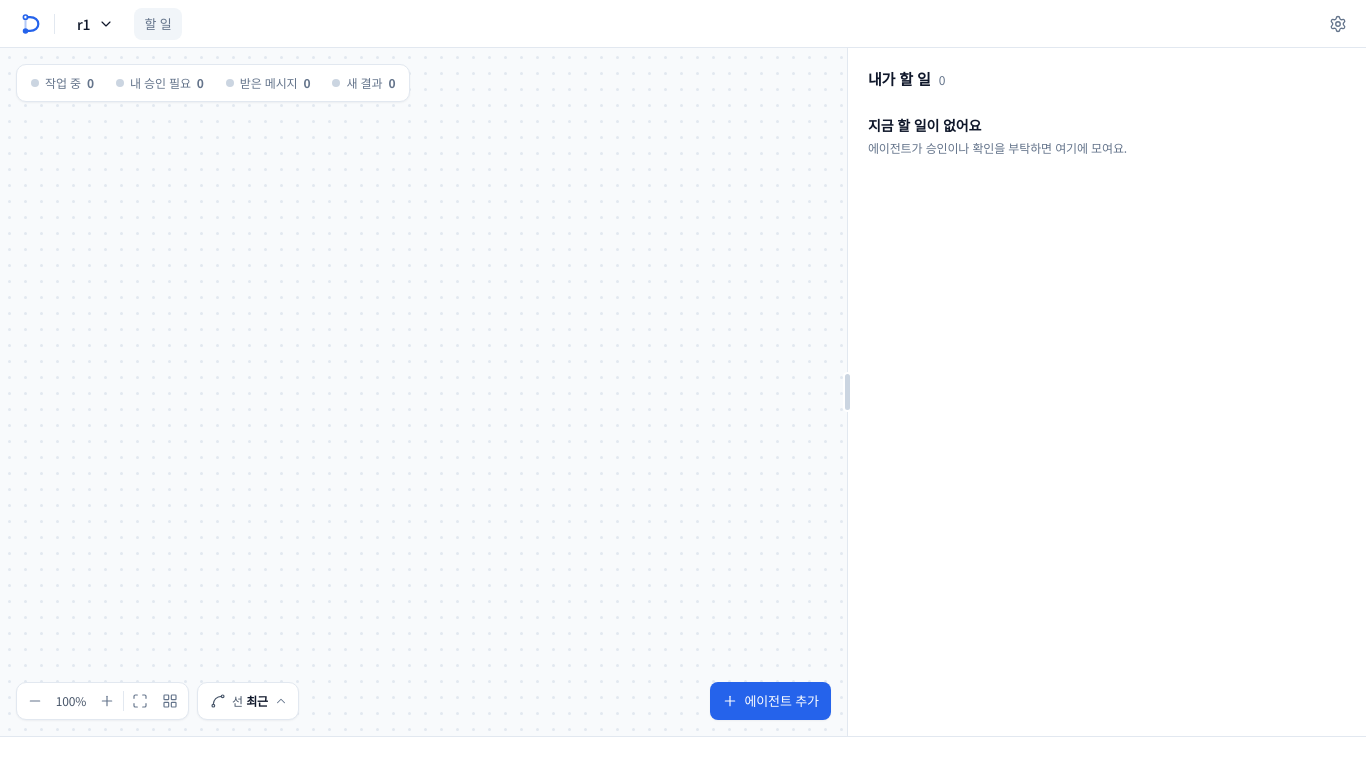
Test case: App 셸 › 에이전트가 있으면 관계도 오른쪽 아래에 에이전트 추가(확대 조절 줄과 따로) — 누르면 추가 대화상자
The width and height of the screenshot is (1366, 768).
Click the button "에이전트 추가".
click(771, 701)  # box x1=710 y1=682 x2=831 y2=720
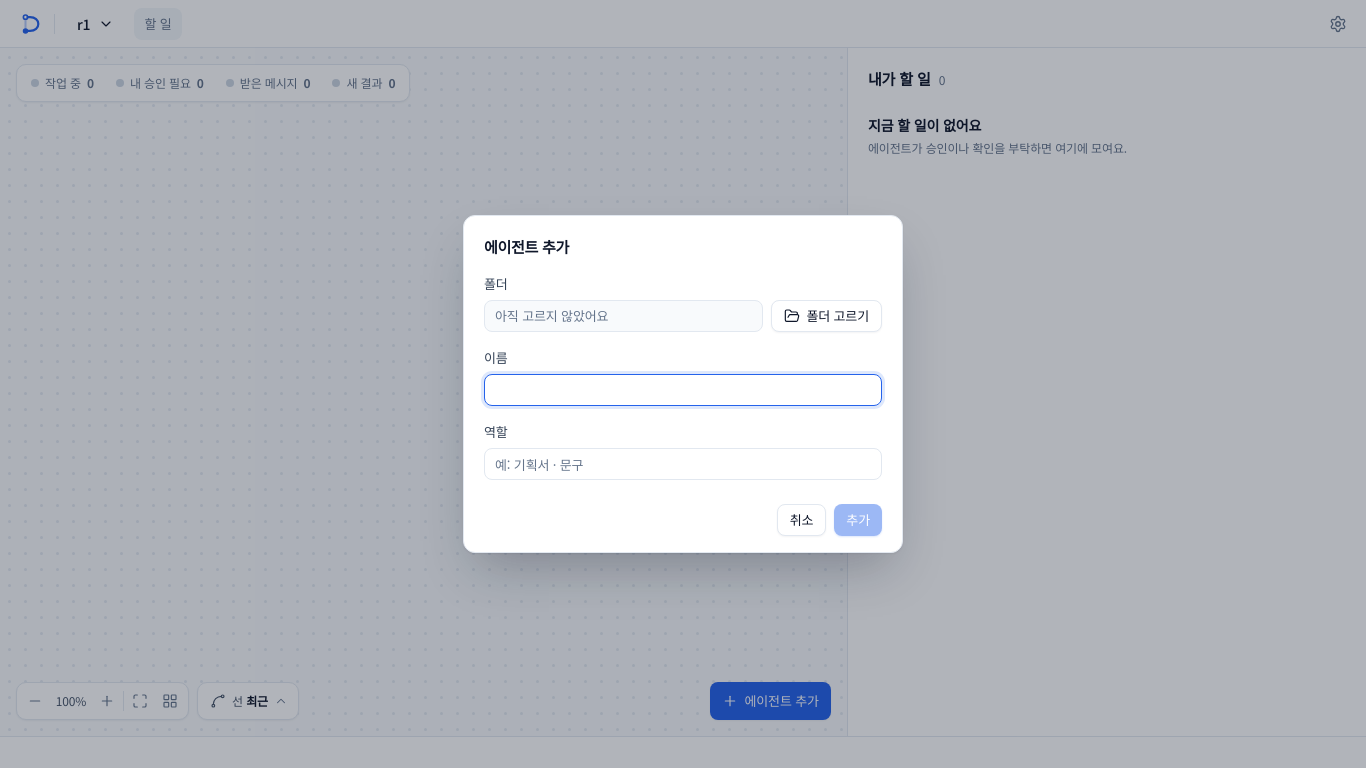
Expected: the dialog "에이전트 추가" is shown, x1=463 y1=215 x2=903 y2=553
